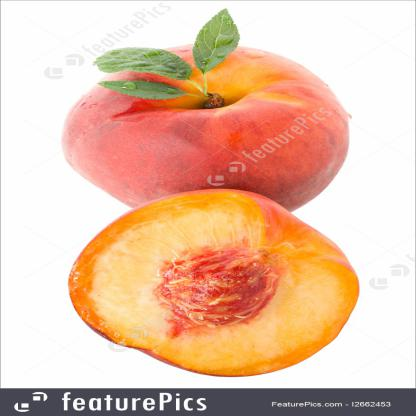peach leaf: (193, 5, 246, 75), (95, 46, 197, 82), (99, 76, 191, 107)
